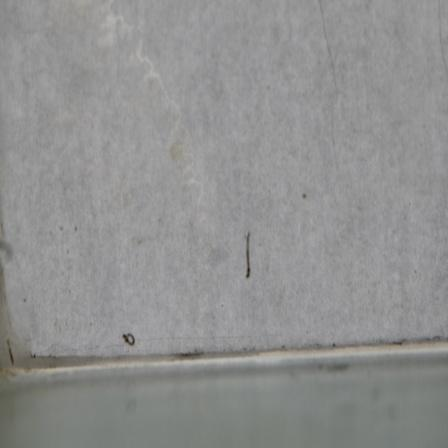Jentik-Nyamuk: (241, 229, 254, 281), (119, 331, 140, 347)
